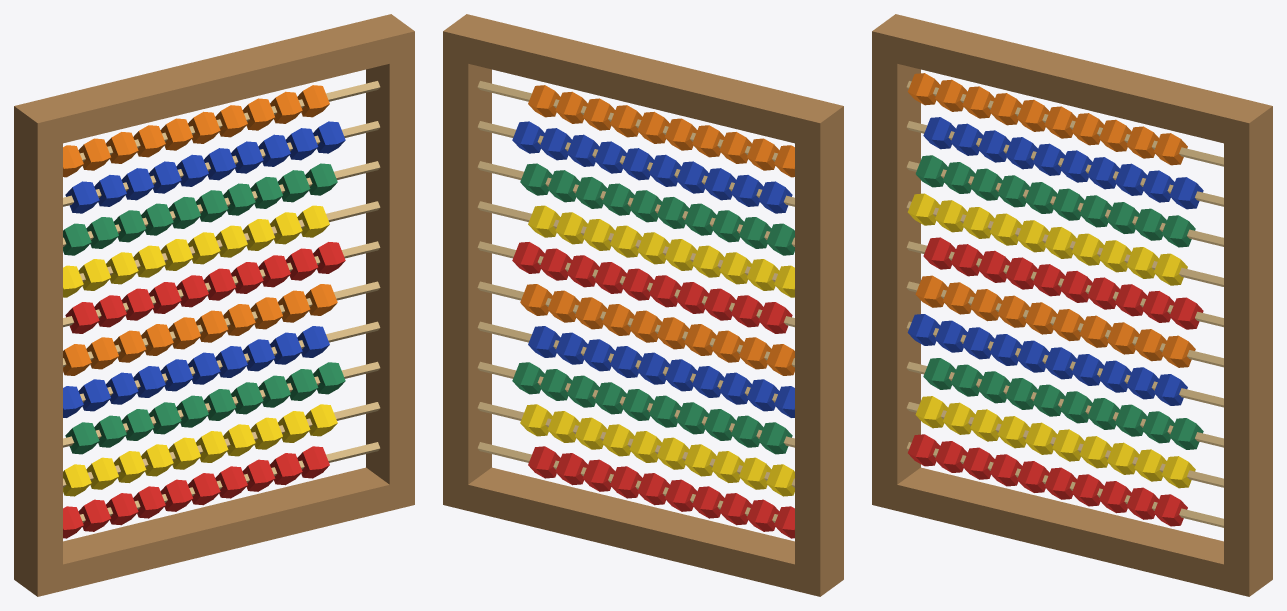
The model's file is NEW_RECOVERY_050_LOD2.glb.
The picture shows the model from 3 angles, left to right: view 1: azimuth 30°, elevation 25°; view 2: azimuth 150°, elevation 25°; view 3: azimuth 330°, elevation 25°; orthographic projection.
Parts seen in each view (by area): view 1: Abacus frozen single object; view 2: Abacus frozen single object; view 3: Abacus frozen single object.
Part boxes in pixels (box(x1,y1,x2,y2)): Abacus frozen single object: box(14, 14, 414, 596); Abacus frozen single object: box(443, 14, 843, 596); Abacus frozen single object: box(872, 14, 1272, 596).
Size of the model in its own units: 1.2 by 1.44 by 0.13.
